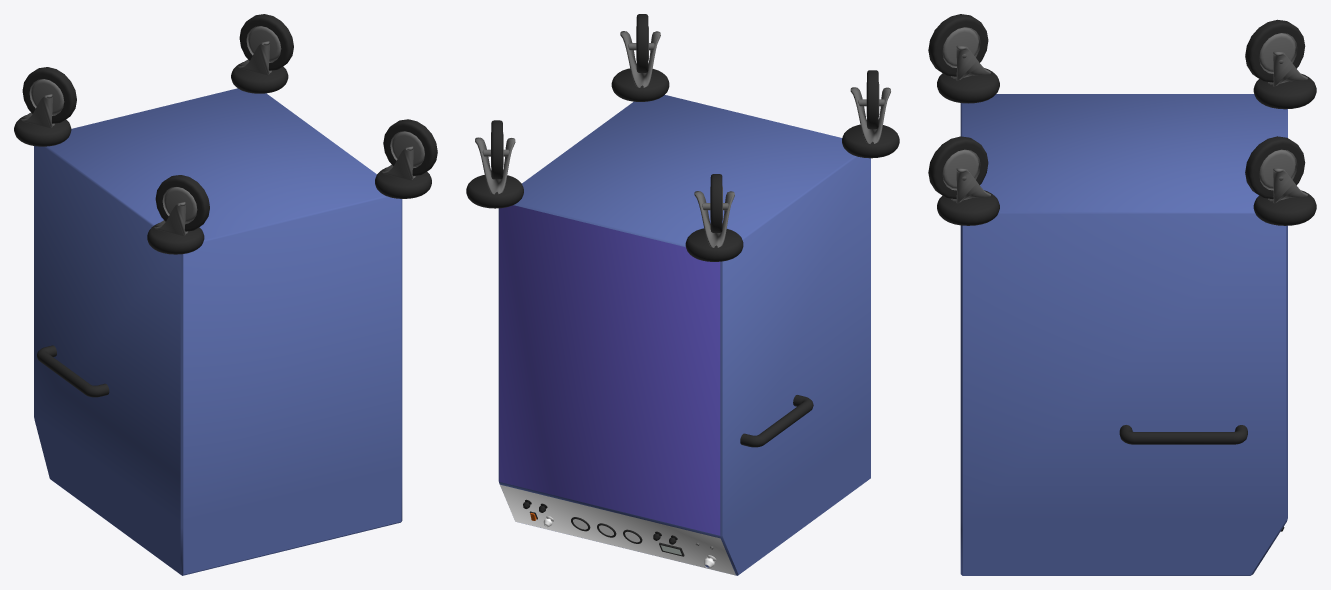
File: oxygen.FBX
3 views of the same model, side by side, from view 1: azimuth 30°, elevation 25°; view 2: azimuth 150°, elevation 25°; view 3: azimuth 270°, elevation 25° (orthographic). The views are drawn at different scales.
Visible parts, largest first — view 1: Kislorod; view 2: Kislorod; view 3: Kislorod.
Part boxes in pixels (x1,y1,x2,y2): Kislorod: [14, 14, 437, 575]; Kislorod: [466, 14, 899, 575]; Kislorod: [928, 14, 1316, 575].
Bounding box in the file's own units: 551 × 760 × 606.
